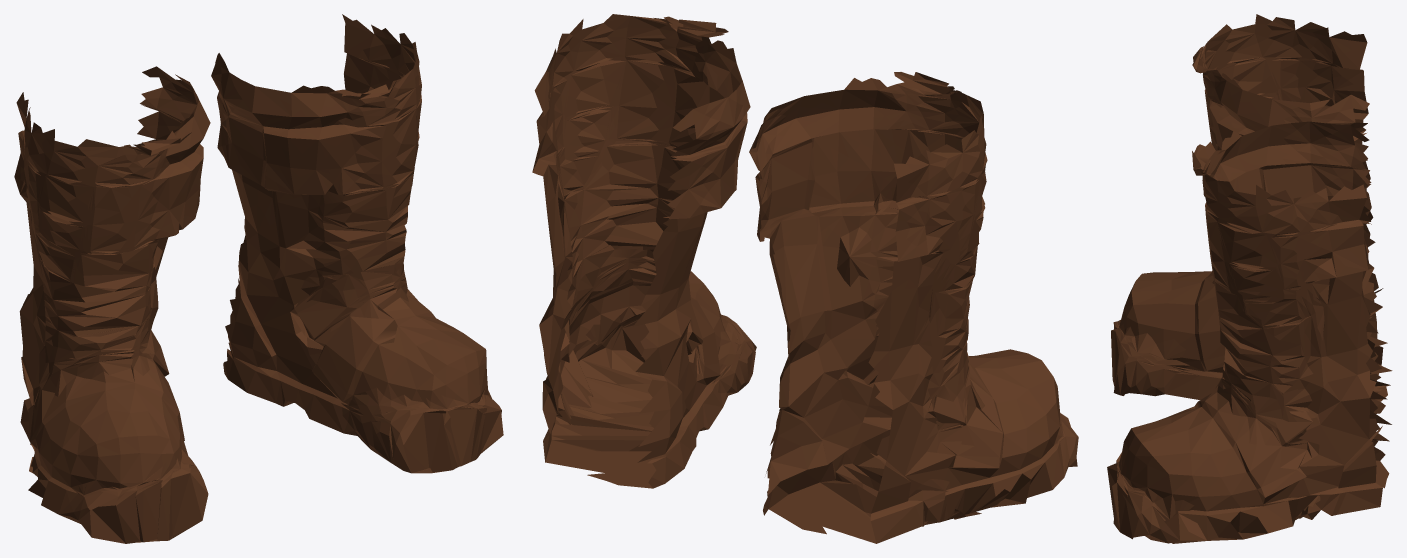
File: kleidung.fuss.stiefel.v003.glb
The picture shows the model from 3 angles, left to right: view 1: azimuth 30°, elevation 25°; view 2: azimuth 150°, elevation 25°; view 3: azimuth 270°, elevation 25°; orthographic projection. The views are drawn at different scales.
Visible parts, largest first — view 1: kleidung.fuss.stiefel.v003.001; view 2: kleidung.fuss.stiefel.v003.001; view 3: kleidung.fuss.stiefel.v003.001.
Boxes of the visible parts, x1=… form: kleidung.fuss.stiefel.v003.001: x1=14, y1=14, x2=503, y2=543; kleidung.fuss.stiefel.v003.001: x1=532, y1=14, x2=1078, y2=543; kleidung.fuss.stiefel.v003.001: x1=1107, y1=14, x2=1392, y2=543.
Size of the model in its own units: 0.5677 by 0.454 by 0.3293.
